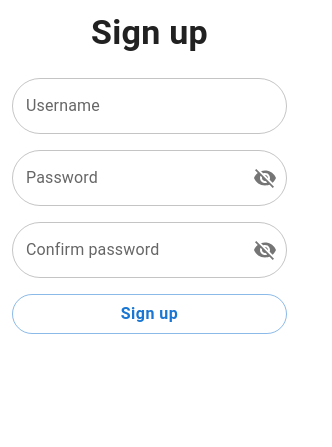
Test: Empty form submission
Click the button "Sign up".
click(150, 314)  # box [12,294,287,334]
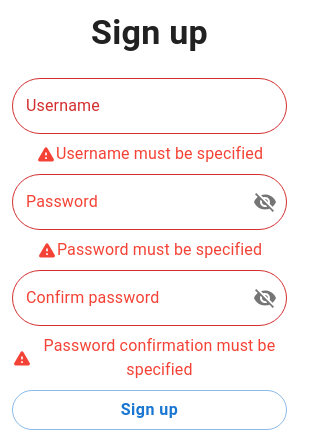
Expected: the element with test id "username-error-element" reads "Username must be specified", [56,144,263,163]
Expected: the element with test id "password-error-element" reads "Password must be specified", [57,240,262,259]
Expected: the element with test id "passwordConfirmation-error-element" reads "Password confirmation must be specified", [44,336,275,379]
